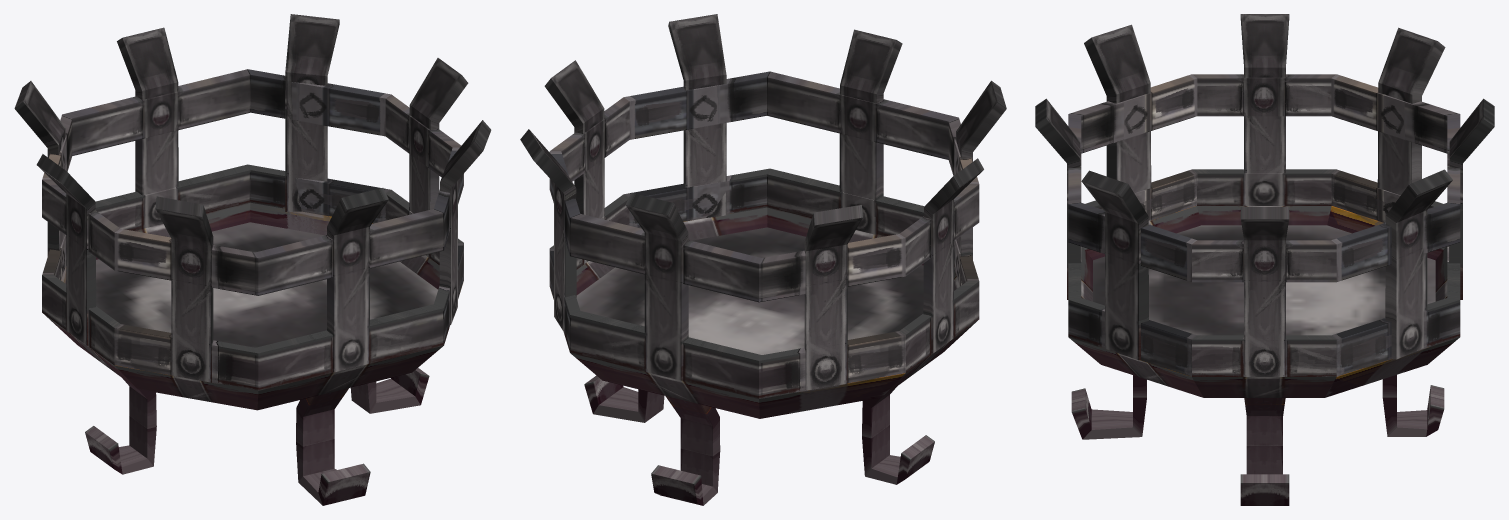
File: Fire_base_01.glb
The picture shows the model from 3 angles, left to right: view 1: azimuth 30°, elevation 25°; view 2: azimuth 150°, elevation 25°; view 3: azimuth 270°, elevation 25°; orthographic projection.
Parts seen in each view (by area): view 1: Fire_base_01; view 2: Fire_base_01; view 3: Fire_base_01.
Part boxes in pixels (x1,y1,x2,y2): Fire_base_01: (14,14,491,505); Fire_base_01: (520,14,1006,505); Fire_base_01: (1035,14,1494,505).
Bounding box in the file's own units: 10.31 × 7.89 × 10.08.
Materials: 1 (1 with a texture image).
